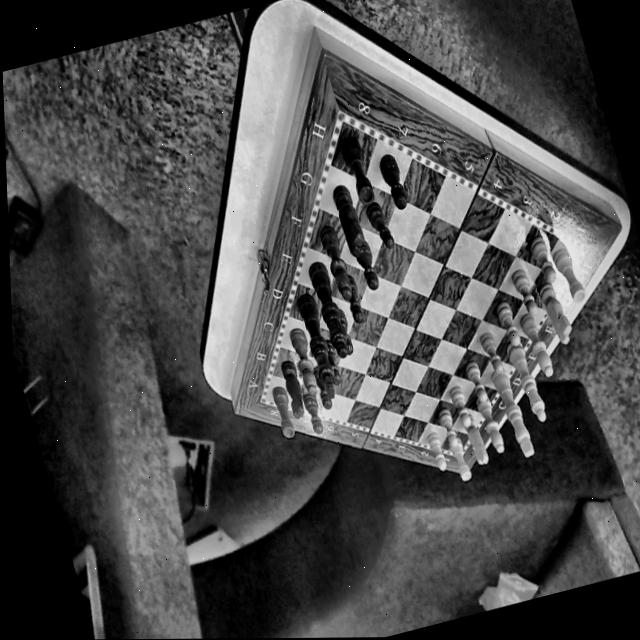chessboard: (265, 123, 578, 453)
